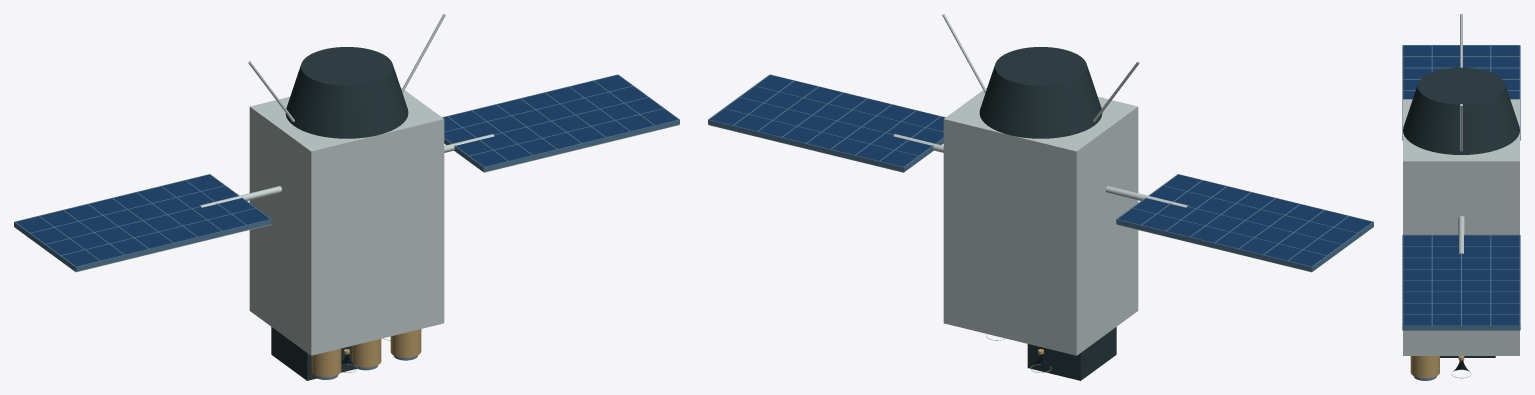
Rendered from landsat-1.glb.
3 views of the same model, side by side, from view 1: azimuth 30°, elevation 25°; view 2: azimuth 150°, elevation 25°; view 3: azimuth 270°, elevation 25° (orthographic). The views are drawn at different scales.
Parts seen in each view (by area): view 1: body, solar, instruments, antenna; view 2: body, solar, instruments, antenna; view 3: body, solar, instruments, antenna, propulsion.
Boxes of the visible parts, bbox=[...] form: body: bbox=[249, 47, 444, 355]; solar: bbox=[14, 74, 679, 272]; instruments: bbox=[271, 327, 421, 380]; antenna: bbox=[248, 14, 445, 122]; body: bbox=[943, 47, 1138, 355]; solar: bbox=[708, 74, 1373, 272]; instruments: bbox=[1027, 327, 1116, 380]; antenna: bbox=[942, 14, 1139, 122]; body: bbox=[1403, 67, 1519, 355]; solar: bbox=[1402, 45, 1520, 330]; instruments: bbox=[1410, 356, 1495, 380]; antenna: bbox=[1460, 14, 1462, 151]; propulsion: bbox=[1451, 356, 1471, 378].
Bounding box in the file's own units: 6.81 × 3.4 × 1.21.
